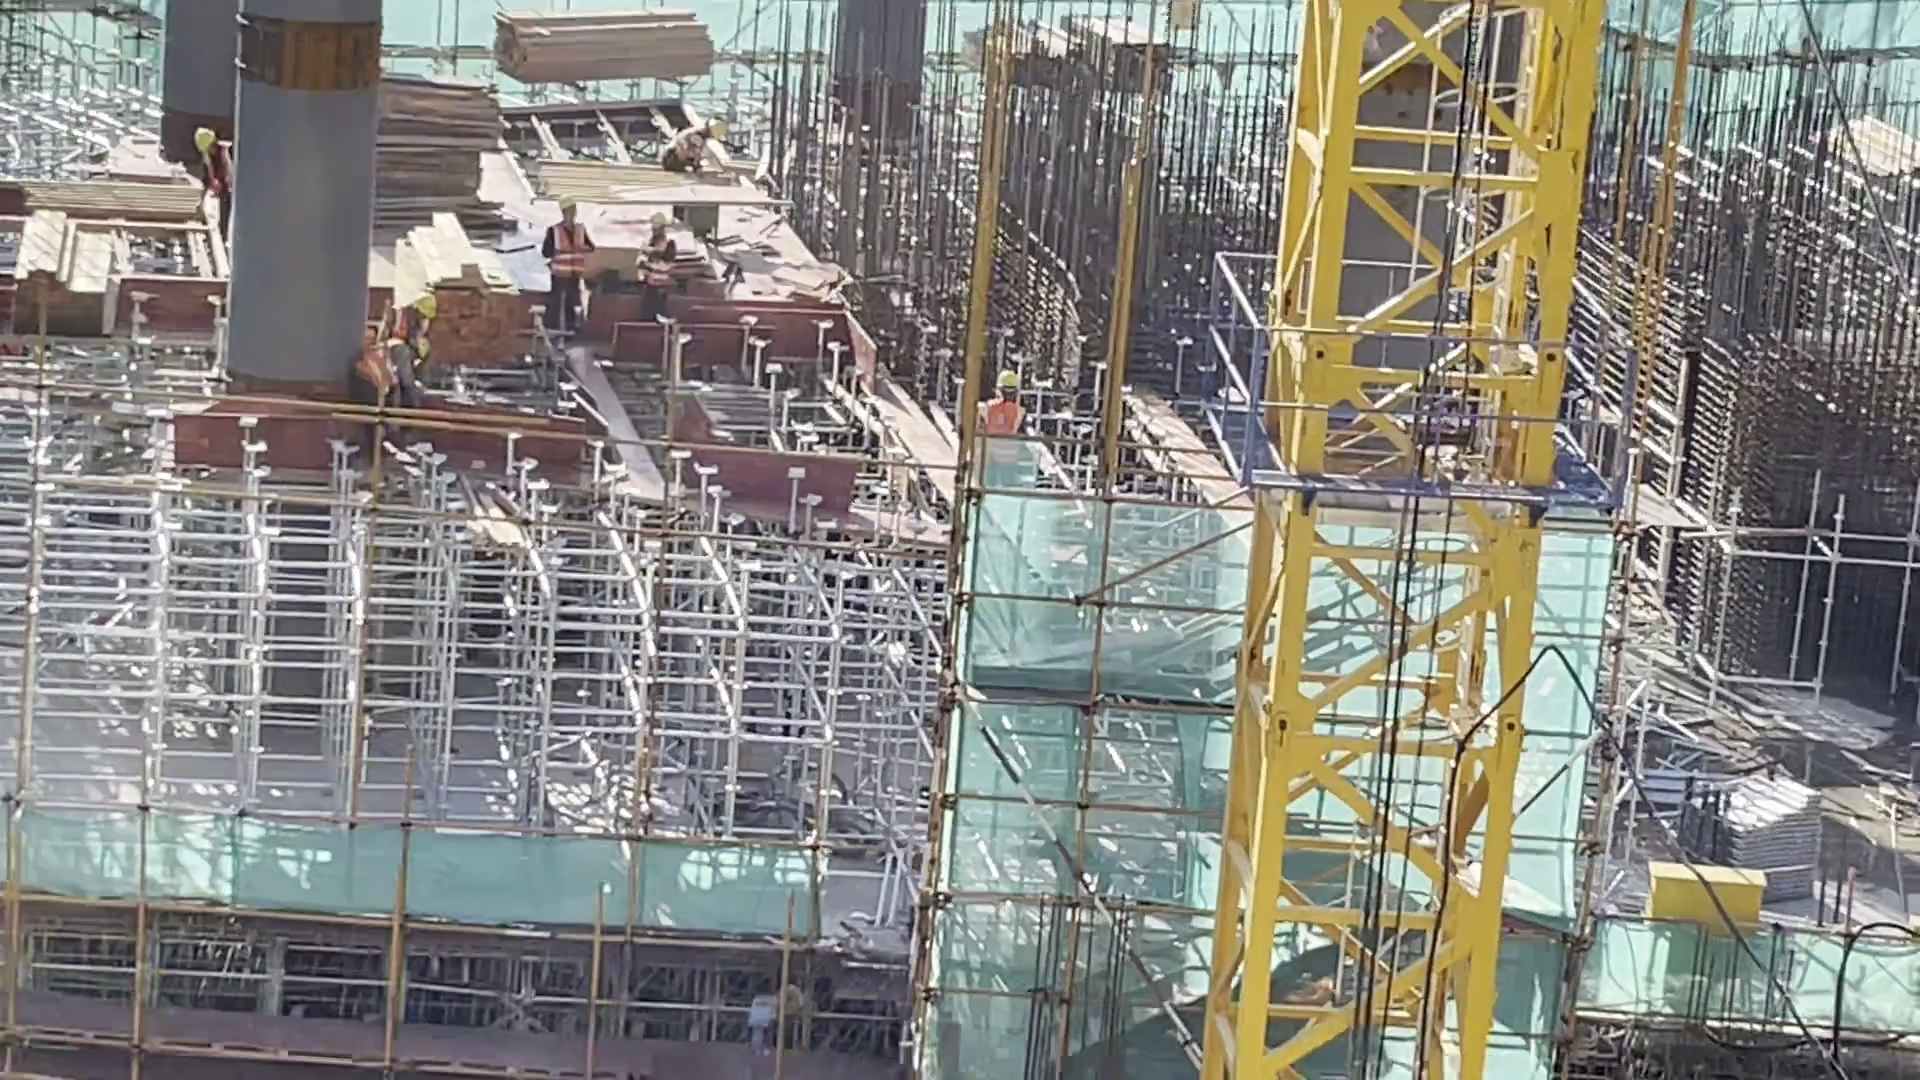cutter: (614, 175, 792, 238)
ebox: (1640, 851, 1772, 941)
helmet: (413, 292, 435, 318), (195, 127, 215, 154), (995, 369, 1023, 388), (704, 119, 728, 138), (559, 189, 578, 214), (649, 211, 672, 229), (412, 337, 432, 356)
person: (541, 195, 588, 329), (185, 128, 235, 242), (351, 333, 422, 407), (637, 210, 674, 324), (667, 114, 723, 178), (983, 368, 1028, 438), (387, 295, 442, 342)
scaffold: (1677, 774, 1827, 902)
vest: (638, 237, 677, 288), (665, 127, 706, 173), (199, 140, 231, 197), (553, 225, 585, 273), (983, 398, 1023, 436)
wood: (379, 69, 506, 232), (392, 219, 522, 360), (491, 10, 719, 80), (12, 213, 115, 341)
